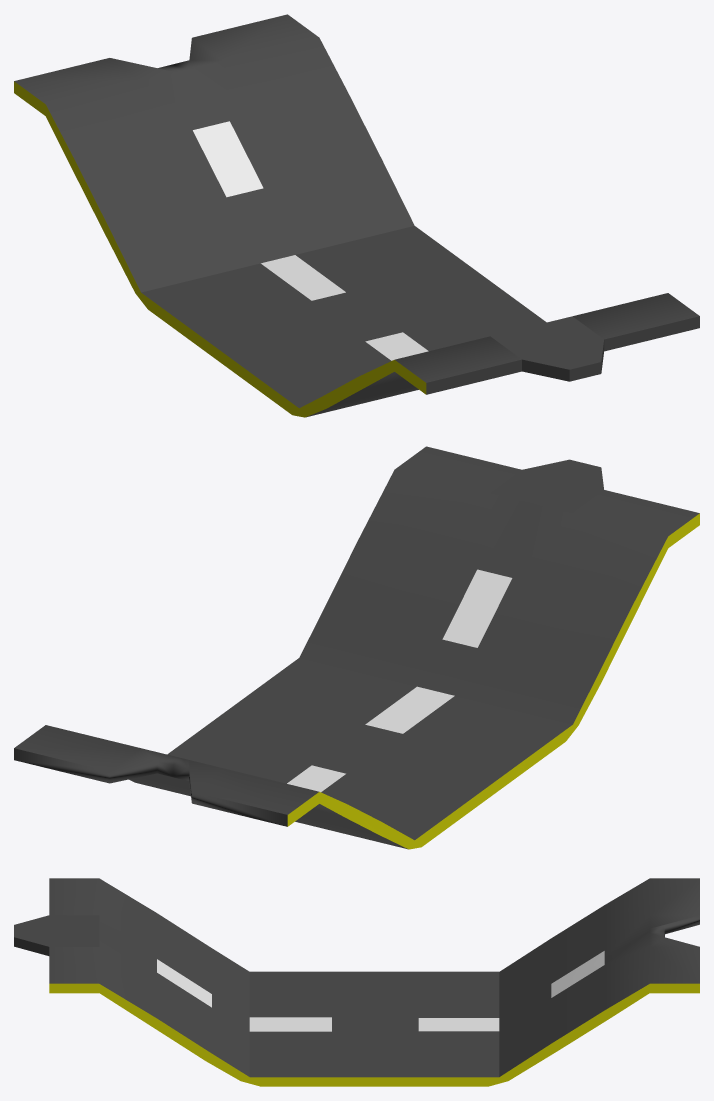
Rendered from Opposite Bridge Piece.fbx.
3 renders of one model, top to bottom at view 1: azimuth 30°, elevation 25°; view 2: azimuth 150°, elevation 25°; view 3: azimuth 270°, elevation 25°, orthographic. The views are drawn at different scales.
Visible parts, largest first — view 1: Opposite_Bridge_Piece1; view 2: Opposite_Bridge_Piece1; view 3: Opposite_Bridge_Piece1.
Part boxes in pixels (bbox=[...]): Opposite_Bridge_Piece1: bbox=[14, 14, 699, 417]; Opposite_Bridge_Piece1: bbox=[14, 446, 699, 849]; Opposite_Bridge_Piece1: bbox=[14, 878, 699, 1086].
Bounding box in the file's own units: 8.53 × 3.88 × 23.45.
